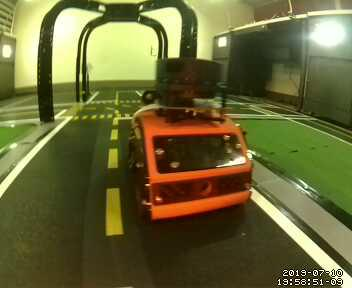pheeno: (127, 56, 256, 225)
